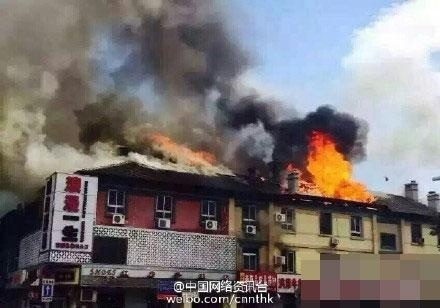fire: (297, 129, 376, 202), (143, 128, 222, 168)
